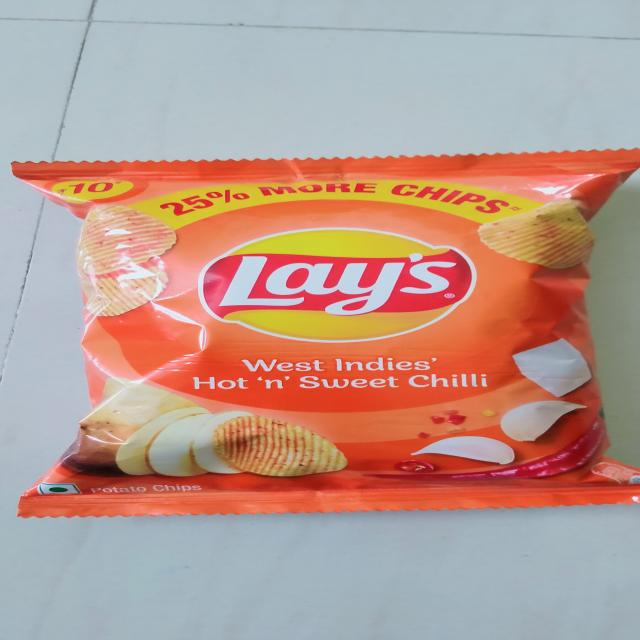lays: (3, 152, 640, 522)
